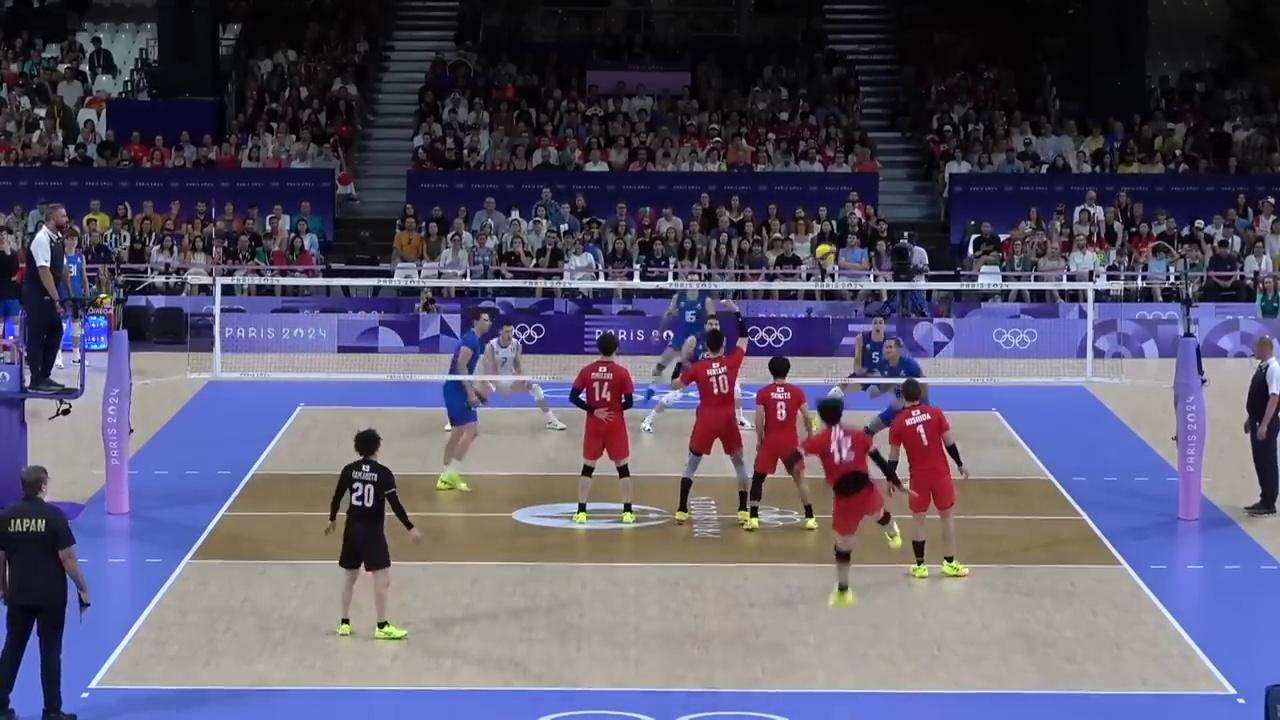ball: (816, 245, 837, 266)
